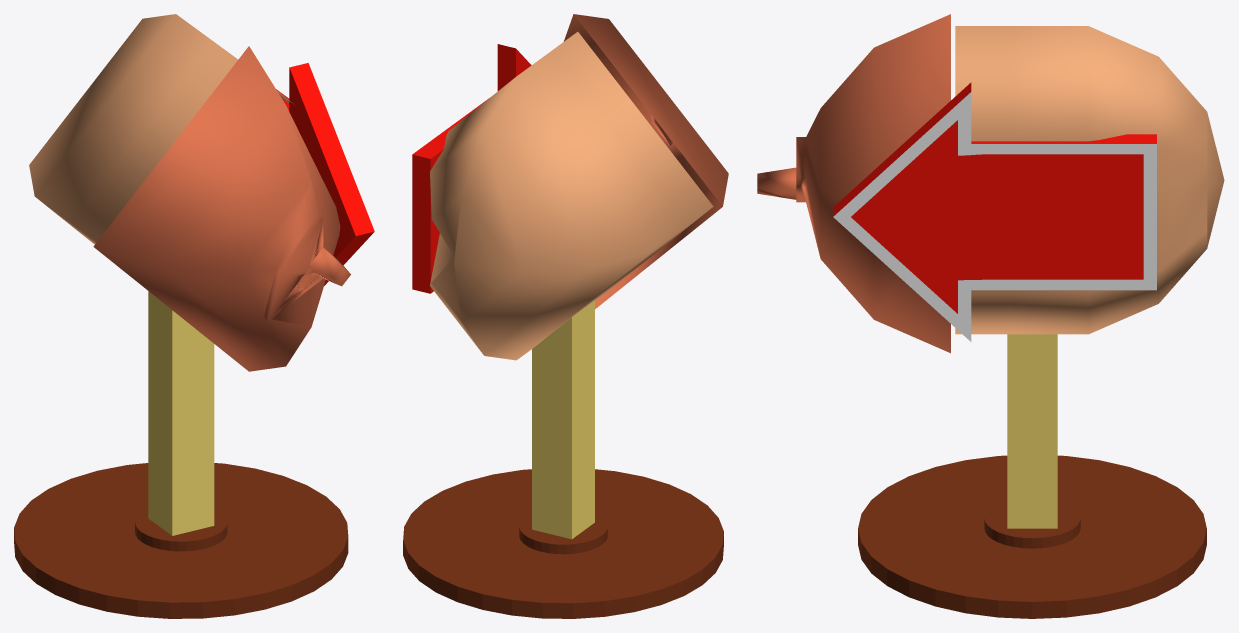
The model's file is dotoli_Sign02 (1).fbx.
3 views of the same model, side by side, from view 1: azimuth 30°, elevation 25°; view 2: azimuth 150°, elevation 25°; view 3: azimuth 270°, elevation 25° (orthographic). The views are drawn at different scales.
Parts seen in each view (by area): view 1: Cube; view 2: Cube; view 3: Cube.
Part boxes in pixels (box(x1,y1,x2,y2)): Cube: box(14, 14, 374, 618); Cube: box(403, 14, 728, 618); Cube: box(757, 14, 1224, 618).
Bounding box in the file's own units: 200 × 345 × 268.
